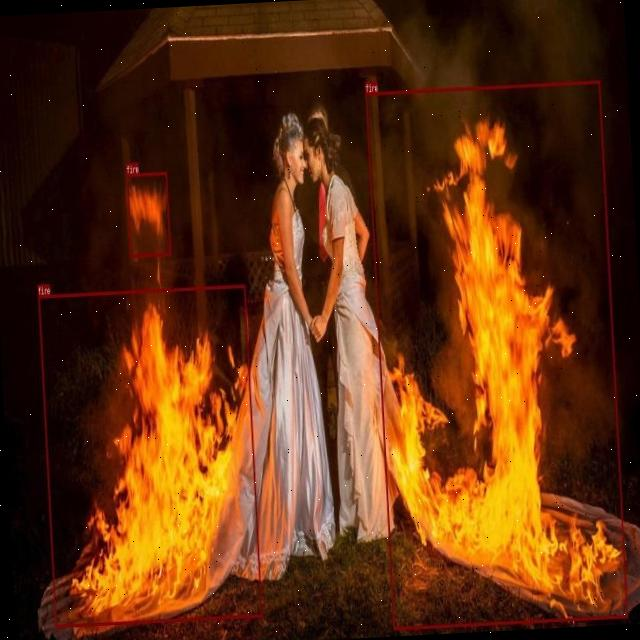fire: (365, 80, 628, 630), (39, 285, 262, 627), (126, 172, 170, 257)
